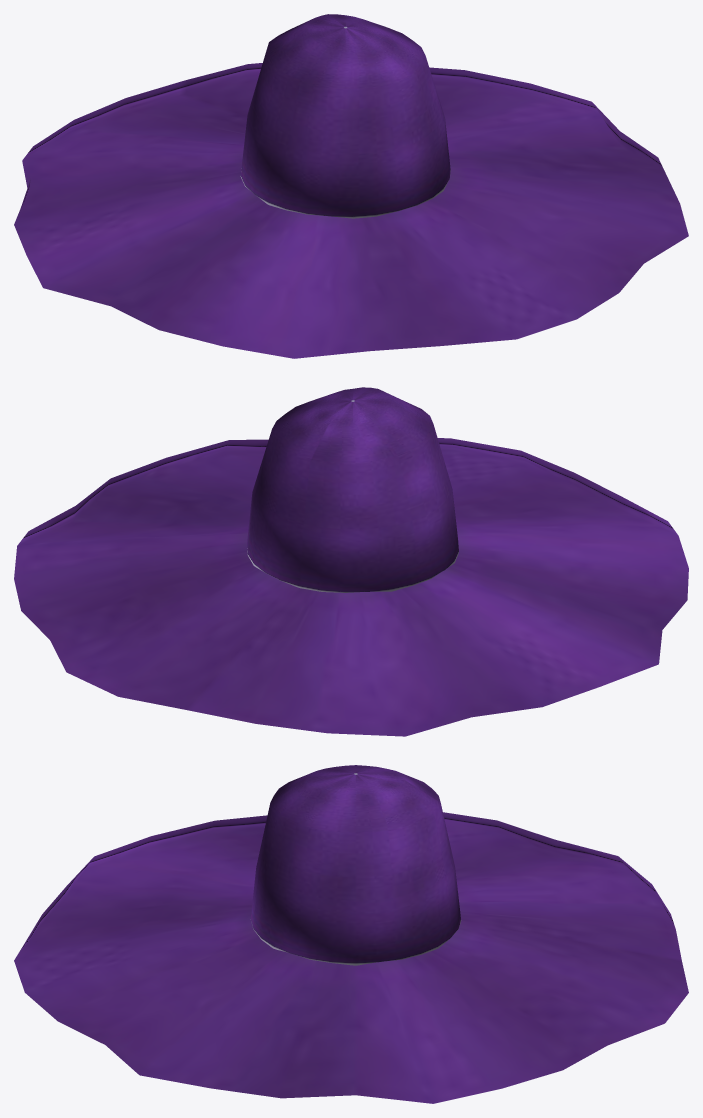
The model's file is amethyst_wide_head.glb.
3 renders of one model, top to bottom at view 1: azimuth 30°, elevation 25°; view 2: azimuth 150°, elevation 25°; view 3: azimuth 270°, elevation 25°, orthographic.
Parts seen in each view (by area): view 1: amethyst_wide_head; view 2: amethyst_wide_head; view 3: amethyst_wide_head.
Part boxes in pixels (x1,y1,x2,y2): amethyst_wide_head: (14, 14, 688, 358); amethyst_wide_head: (14, 387, 688, 736); amethyst_wide_head: (14, 765, 688, 1103).
Size of the model in its own units: 0.55 by 0.1647 by 0.5394.
1 material, 1 textured.
